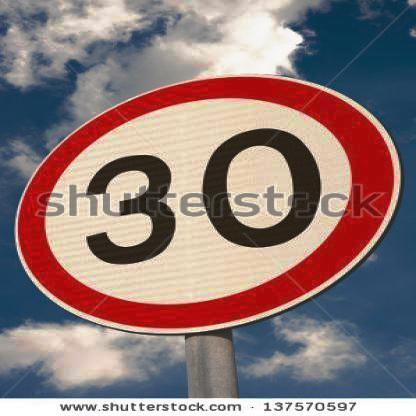Speed Limit -30-: (3, 77, 402, 333)
